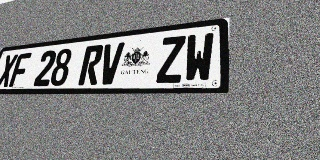2: (33, 50, 58, 86)
8: (49, 48, 74, 86)
F: (8, 52, 32, 87)
R: (78, 44, 104, 85)
V: (97, 42, 125, 85)
W: (183, 32, 214, 83)
X: (0, 54, 18, 87)
Z: (156, 35, 186, 83)
